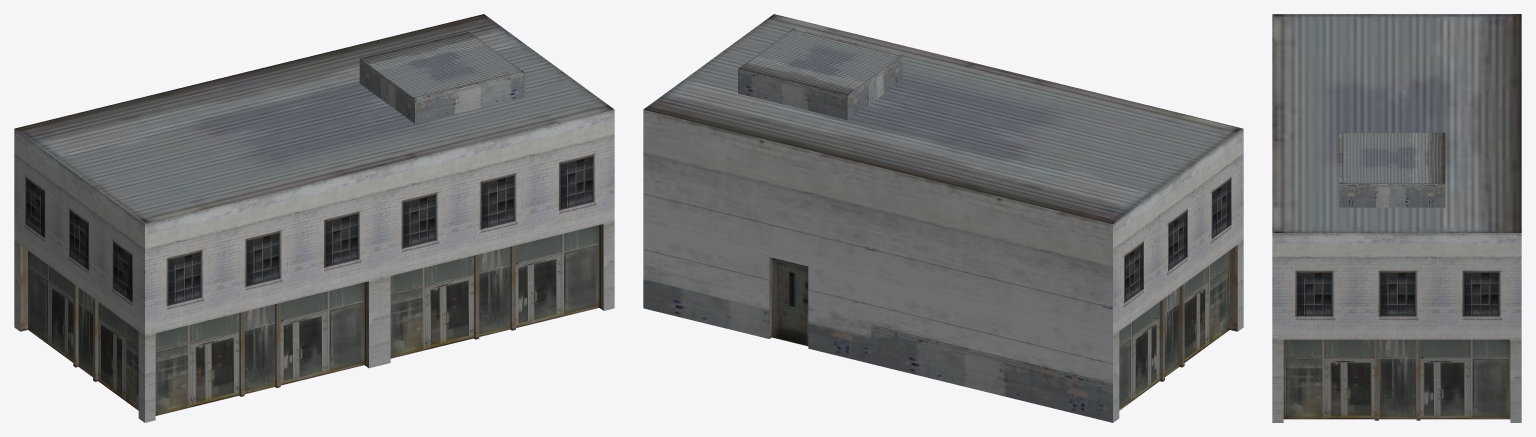
Rendered from o3_edificio_fondo_3.glb.
3 views of the same model, side by side, from view 1: azimuth 30°, elevation 25°; view 2: azimuth 150°, elevation 25°; view 3: azimuth 270°, elevation 25° (orthographic). The views are drawn at different scales.
Parts seen in each view (by area): view 1: sb_modello; view 2: sb_modello; view 3: sb_modello.
Boxes of the visible parts, left/top/right/bottom form: sb_modello: left=14, top=14, right=614, bottom=422; sb_modello: left=643, top=14, right=1243, bottom=422; sb_modello: left=1272, top=14, right=1521, bottom=422.
Size of the model in its own units: 17.39 by 7.91 by 8.37.
1 material, 1 textured.
